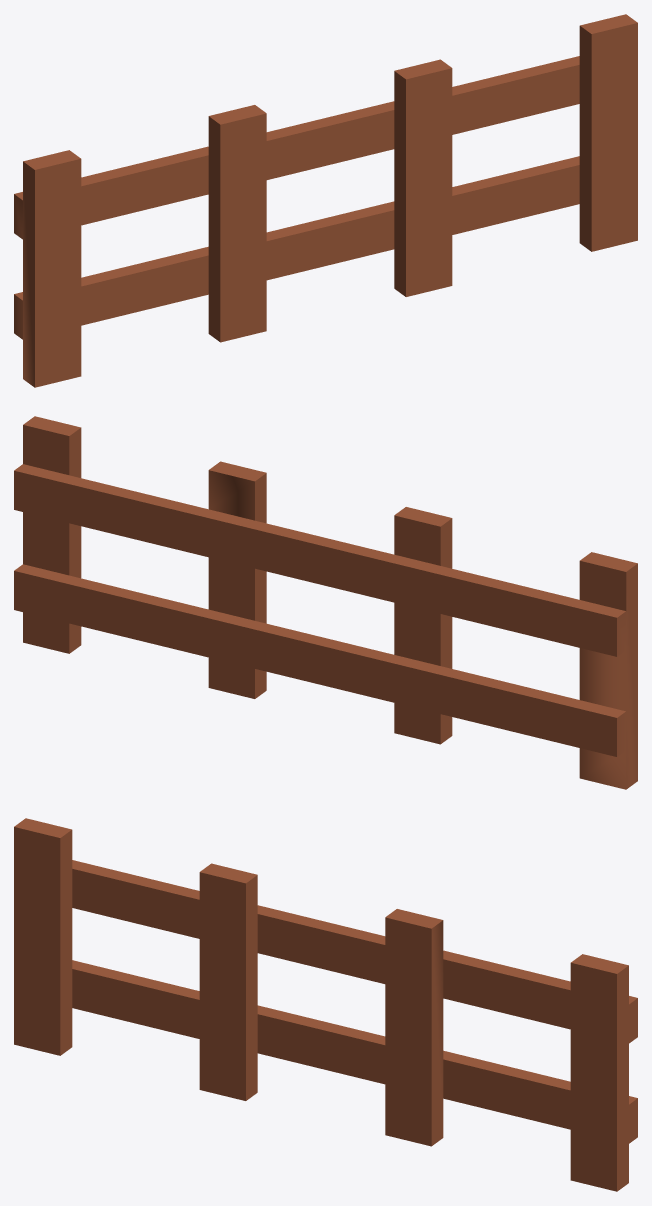
Rendered from fence_planksDouble.glb.
3 renders of one model, top to bottom at view 1: azimuth 30°, elevation 25°; view 2: azimuth 150°, elevation 25°; view 3: azimuth 330°, elevation 25°, orthographic.
Parts seen in each view (by area): view 1: fence_planksDouble; view 2: fence_planksDouble; view 3: fence_planksDouble.
Boxes of the visible parts, bbox=[...] form: fence_planksDouble: bbox=[14, 14, 637, 387]; fence_planksDouble: bbox=[14, 416, 637, 789]; fence_planksDouble: bbox=[14, 818, 637, 1191].
Size of the model in its own units: 1 by 0.345 by 0.0599.
